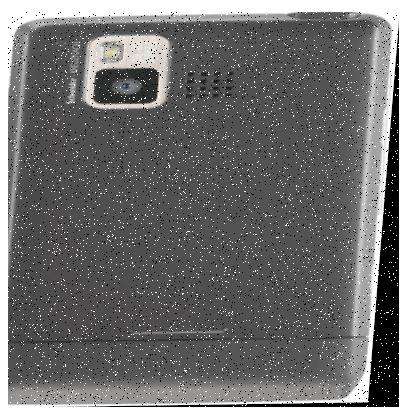Camera: (9, 13, 401, 409)
